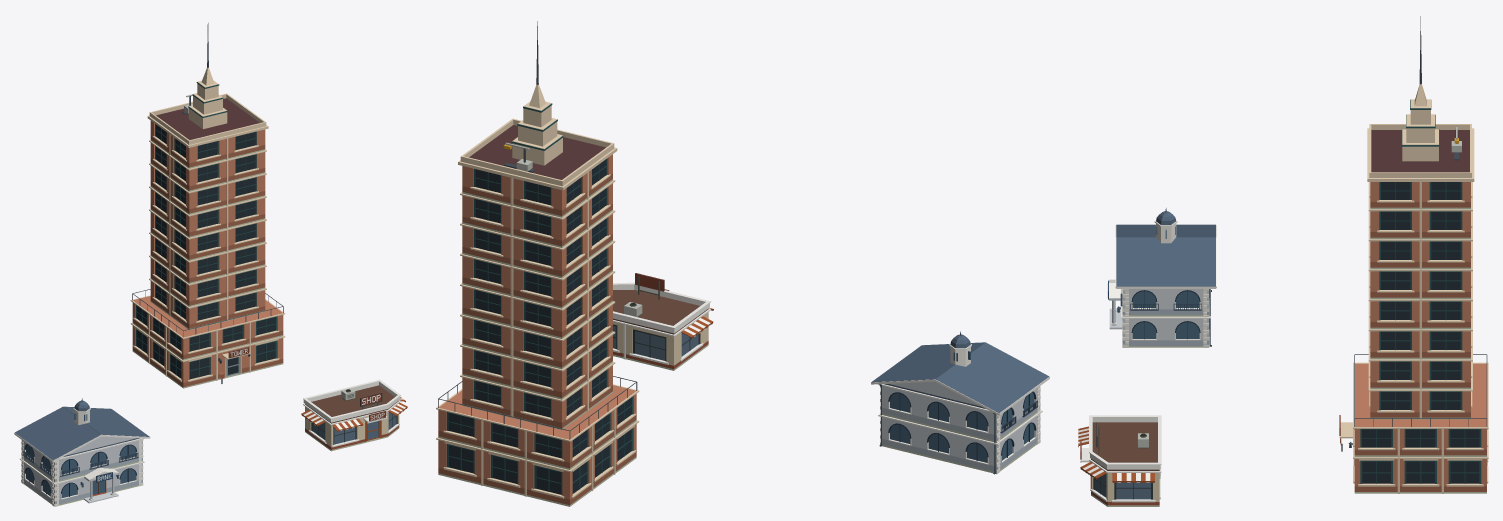
The model's file is hero-high-street-1.glb.
3 renders of one model, left to right at view 1: azimuth 30°, elevation 25°; view 2: azimuth 150°, elevation 25°; view 3: azimuth 270°, elevation 25°, orthographic. The views are drawn at different scales.
Parts seen in each view (by area): view 1: material-batch-5 (×3), material-batch-2 (×3), material-batch-4 (×3), material-batch-1 (×2), material-batch-3 (×2), material-batch-9, material-batch-10 (×3), material-batch-0, material-batch-6, material-batch-7; view 2: material-batch-2 (×3), material-batch-4 (×3), material-batch-5 (×3), material-batch-1 (×2), material-batch-3 (×2), material-batch-9, material-batch-0 (×2), material-batch-10 (×2), material-batch-7; view 3: material-batch-5 (×3), material-batch-4 (×3), material-batch-2 (×2), material-batch-1 (×2), material-batch-9, material-batch-10 (×3), material-batch-3, material-batch-0, material-batch-7, material-batch-6.
Boxes of the visible parts, <box> form: material-batch-5 (×3): <box>26,67,405,497</box>; material-batch-2 (×3): <box>21,121,399,503</box>; material-batch-4 (×3): <box>14,124,396,506</box>; material-batch-1 (×2): <box>21,135,283,504</box>; material-batch-3 (×2): <box>24,82,276,496</box>; material-batch-9: <box>15,400,149,460</box>; material-batch-10 (×3): <box>21,98,399,487</box>; material-batch-0: <box>132,139,283,388</box>; material-batch-6: <box>301,397,407,441</box>; material-batch-7: <box>132,23,283,383</box>; material-batch-2 (×3): <box>438,154,1040,499</box>; material-batch-4 (×3): <box>448,159,1049,494</box>; material-batch-5 (×3): <box>436,84,1034,498</box>; material-batch-1 (×2): <box>438,173,1040,505</box>; material-batch-3 (×2): <box>446,103,1036,494</box>; material-batch-9: <box>871,334,1049,413</box>; material-batch-0 (×2): <box>438,179,1040,506</box>; material-batch-10 (×2): <box>469,125,708,334</box>; material-batch-7: <box>438,21,637,439</box>; material-batch-5 (×3): <box>1078,84,1488,502</box>; material-batch-4 (×3): <box>1094,182,1479,499</box>; material-batch-2 (×2): <box>1109,182,1486,486</box>; material-batch-1 (×2): <box>1122,202,1486,491</box>; material-batch-9: <box>1116,211,1215,286</box>; material-batch-10 (×3): <box>1091,130,1469,470</box>; material-batch-3: <box>1360,99,1481,483</box>; material-batch-0: <box>1354,207,1486,493</box>; material-batch-7: <box>1341,16,1487,451</box>; material-batch-6: <box>1078,426,1154,488</box>.
Size of the model in its own units: 51.96 by 48.5 by 40.3.
